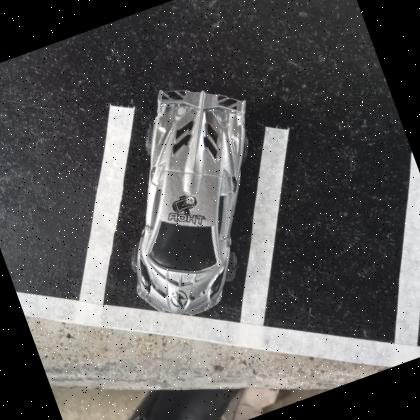Car: (134, 87, 246, 314)
